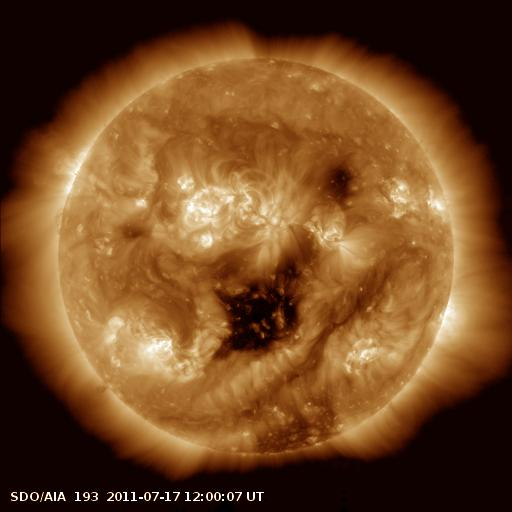coronal_hole: (211, 229, 318, 365), (249, 388, 343, 464), (321, 159, 357, 210)
